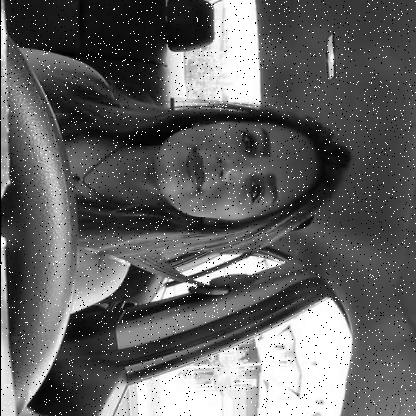seatbelt: (52, 99, 350, 300)
